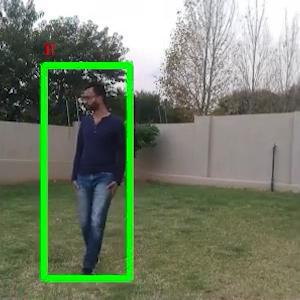follow: (72, 79, 119, 264)
